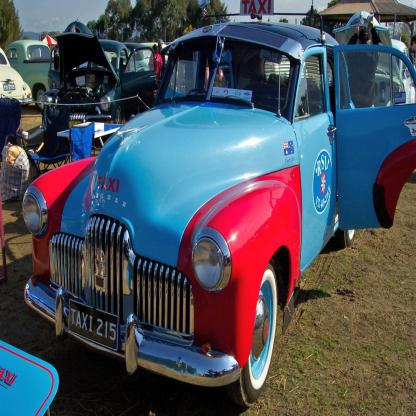Car: (0, 0, 416, 411)
